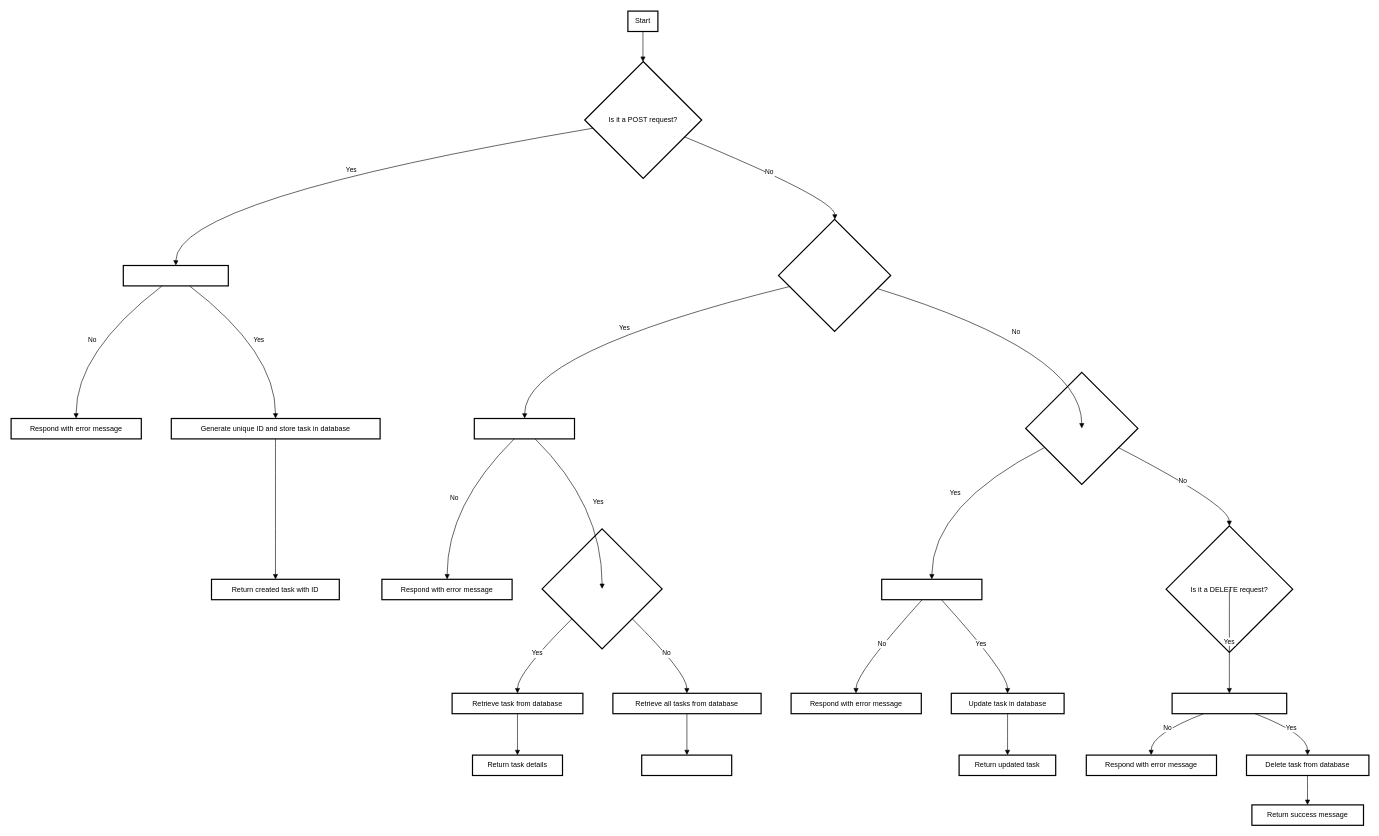
Some shapes in this 1379 by 836 pixel diagram are drawn without their labels. Each missing label, with the centre of its shape:
"Is it a GET request?" goes at (834,275).
"Is it a PUT request?" goes at (1081,428).
"Is it for a single task?" goes at (601,588).
"Return list of tasks" goes at (686,765).
"Validate DELETE request" goes at (1229,703).
"Validate GET request" goes at (524,428).
"Validate POST request" goes at (175,275).
"Validate PUT request" goes at (931,589).
